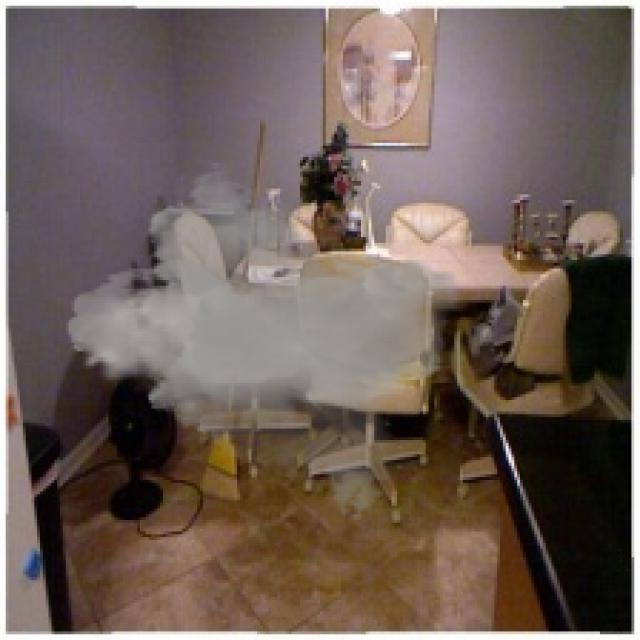Smoke: (66, 160, 463, 523)
